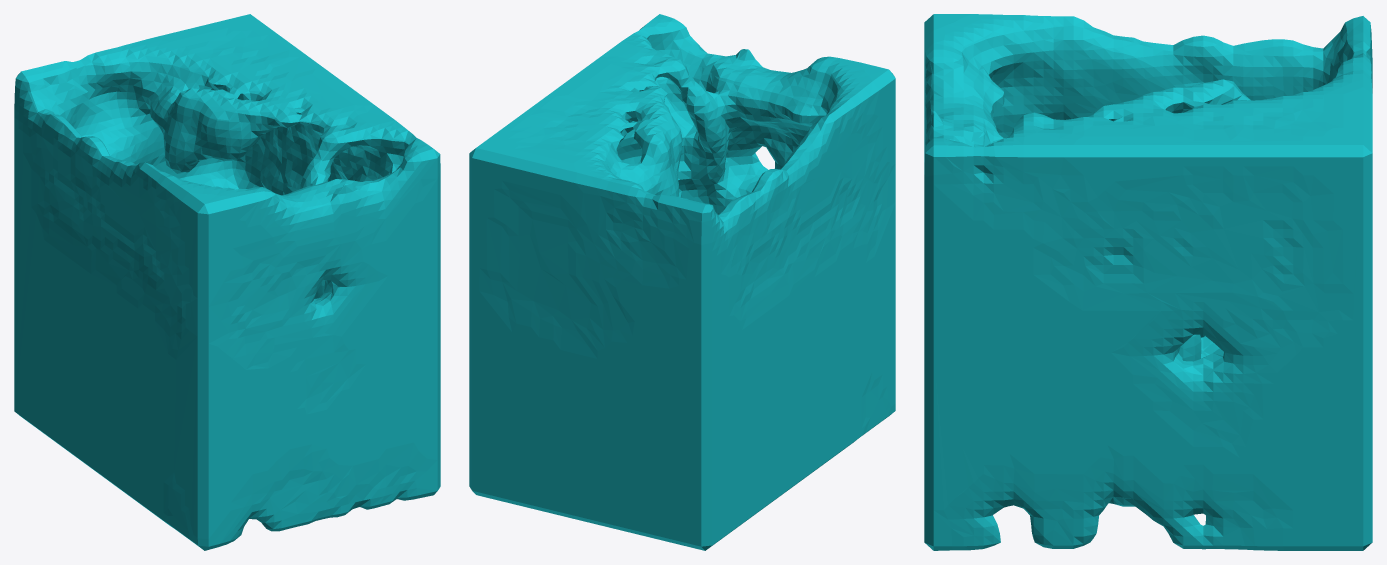
The picture shows the model from 3 angles, left to right: view 1: azimuth 30°, elevation 25°; view 2: azimuth 150°, elevation 25°; view 3: azimuth 270°, elevation 25°; orthographic projection. The views are drawn at different scales.
Parts seen in each view (by area): view 1: Liquid_Domain; view 2: Liquid_Domain; view 3: Liquid_Domain.
Boxes of the visible parts, x1,y1,x2,y2 form: Liquid_Domain: (14,14,440,550); Liquid_Domain: (469,14,895,550); Liquid_Domain: (924,14,1372,550).
Size of the model in its own units: 79.11 by 108 by 108.
